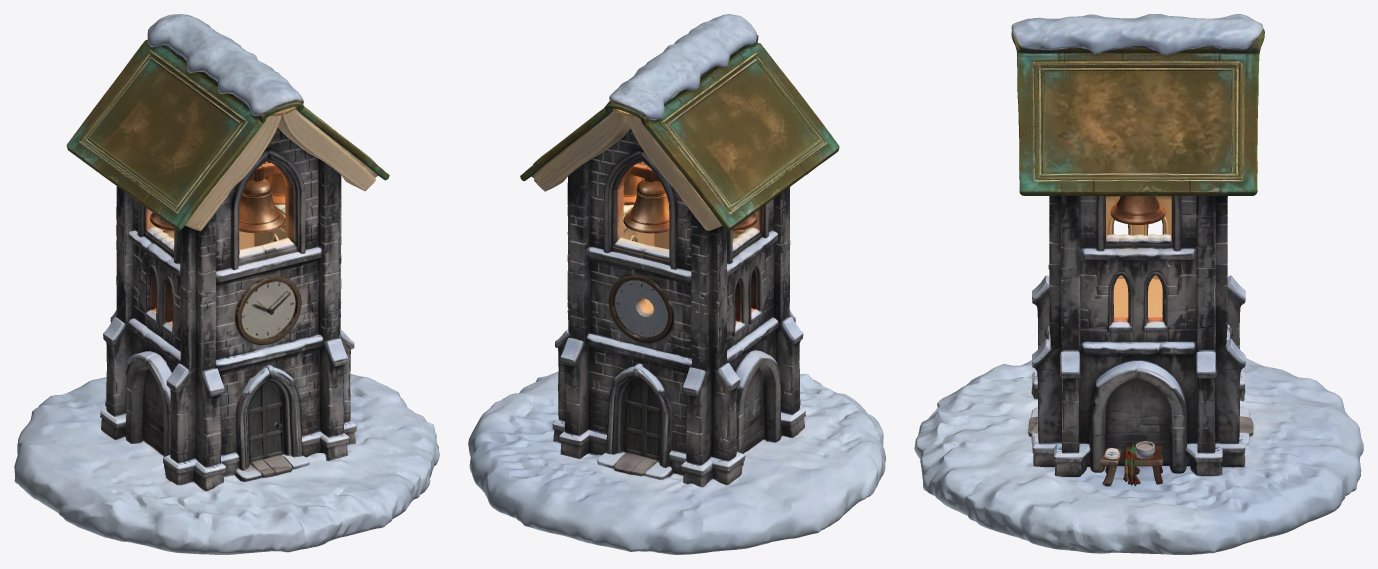
File: chimes.glb
The picture shows the model from 3 angles, left to right: view 1: azimuth 30°, elevation 25°; view 2: azimuth 150°, elevation 25°; view 3: azimuth 270°, elevation 25°; orthographic projection. The views are drawn at different scales.
Visible parts, largest first — view 1: model; view 2: model; view 3: model.
Boxes of the visible parts, x1,y1,x2,y2 form: model: (14, 14, 439, 554); model: (468, 14, 885, 554); model: (914, 14, 1363, 554).
Bounding box in the file's own units: 1.71 × 1.9 × 1.73.
Materials: 1 (1 with a texture image).
